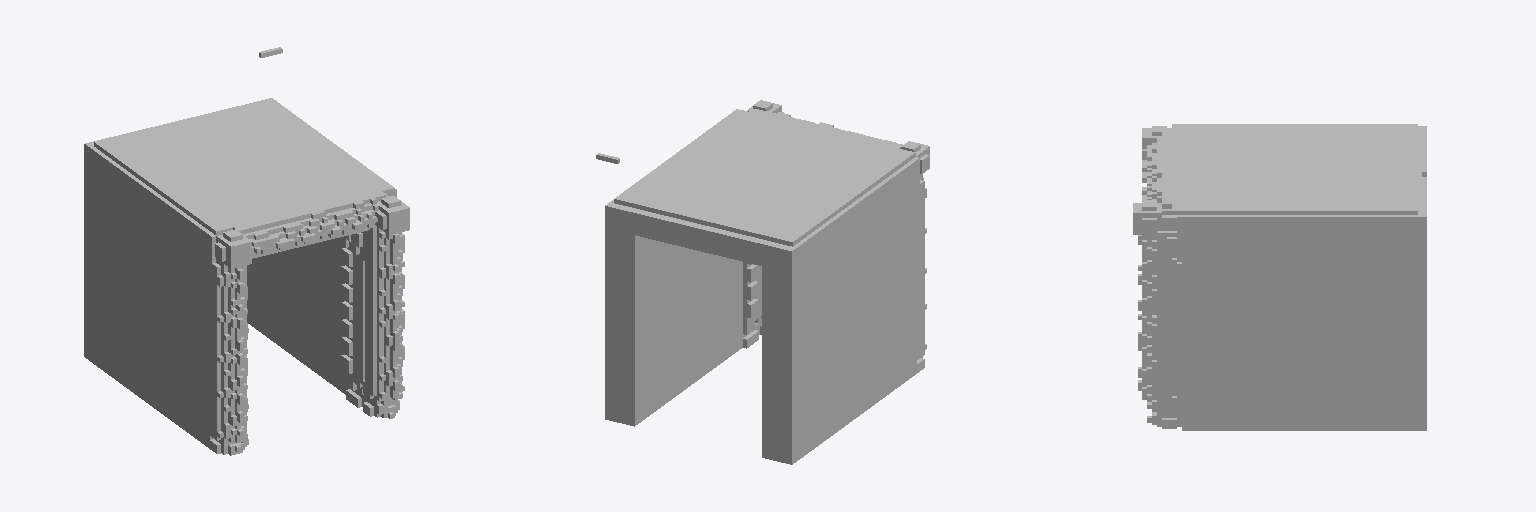
The model's file is Tunnel.obj.
3 renders of one model, left to right at view 1: azimuth 30°, elevation 25°; view 2: azimuth 150°, elevation 25°; view 3: azimuth 270°, elevation 25°, orthographic.
Size of the model in its own units: 46 by 59 by 60.